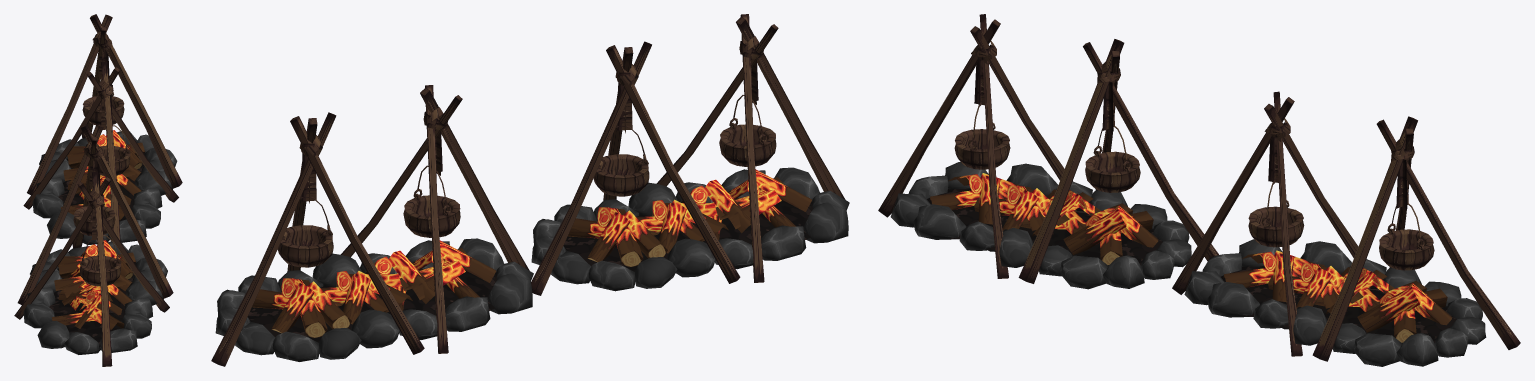
The model's file is CocinaFireplace.fbx.
3 views of the same model, side by side, from view 1: azimuth 30°, elevation 25°; view 2: azimuth 150°, elevation 25°; view 3: azimuth 270°, elevation 25° (orthographic). The views are drawn at different scales.
Visible parts, largest first — view 1: SM_PROP_campfire_dungeon_01.009, SM_PROP_campfire_dungeon_01.010, SM_PROP_cookingpot_dungeon_01.002, SM_PROP_cookingpot_dungeon_01.001, SM_PROP_cookingpot_dungeon_01.004, SM_PROP_cookingpot_dungeon_01.003; view 2: SM_PROP_campfire_dungeon_01.009, SM_PROP_campfire_dungeon_01.010, SM_PROP_cookingpot_dungeon_01.004, SM_PROP_cookingpot_dungeon_01.001, SM_PROP_cookingpot_dungeon_01.002, SM_PROP_cookingpot_dungeon_01.003; view 3: SM_PROP_campfire_dungeon_01.010, SM_PROP_campfire_dungeon_01.009, SM_PROP_cookingpot_dungeon_01.004, SM_PROP_cookingpot_dungeon_01.001, SM_PROP_cookingpot_dungeon_01.002, SM_PROP_cookingpot_dungeon_01.003.
Boxes of the visible parts, x1,y1,x2,y2 form: SM_PROP_campfire_dungeon_01.009: (23, 240, 167, 354); SM_PROP_campfire_dungeon_01.010: (32, 130, 177, 244); SM_PROP_cookingpot_dungeon_01.002: (14, 171, 169, 366); SM_PROP_cookingpot_dungeon_01.001: (17, 124, 173, 305); SM_PROP_cookingpot_dungeon_01.004: (27, 14, 182, 194); SM_PROP_cookingpot_dungeon_01.003: (23, 62, 178, 240); SM_PROP_campfire_dungeon_01.009: (531, 167, 849, 291); SM_PROP_campfire_dungeon_01.010: (215, 238, 533, 361); SM_PROP_cookingpot_dungeon_01.004: (211, 112, 424, 366); SM_PROP_cookingpot_dungeon_01.001: (531, 41, 740, 295); SM_PROP_cookingpot_dungeon_01.002: (656, 14, 845, 282); SM_PROP_cookingpot_dungeon_01.003: (341, 85, 529, 353); SM_PROP_campfire_dungeon_01.010: (1184, 239, 1486, 366); SM_PROP_campfire_dungeon_01.009: (890, 162, 1191, 289); SM_PROP_cookingpot_dungeon_01.004: (1312, 116, 1520, 361); SM_PROP_cookingpot_dungeon_01.001: (1018, 39, 1218, 283); SM_PROP_cookingpot_dungeon_01.002: (878, 14, 1064, 278); SM_PROP_cookingpot_dungeon_01.003: (1172, 91, 1366, 356).
Bounding box in the file's own units: 3.19 × 1.73 × 4.64.
Materials: 7 (7 with a texture image).
